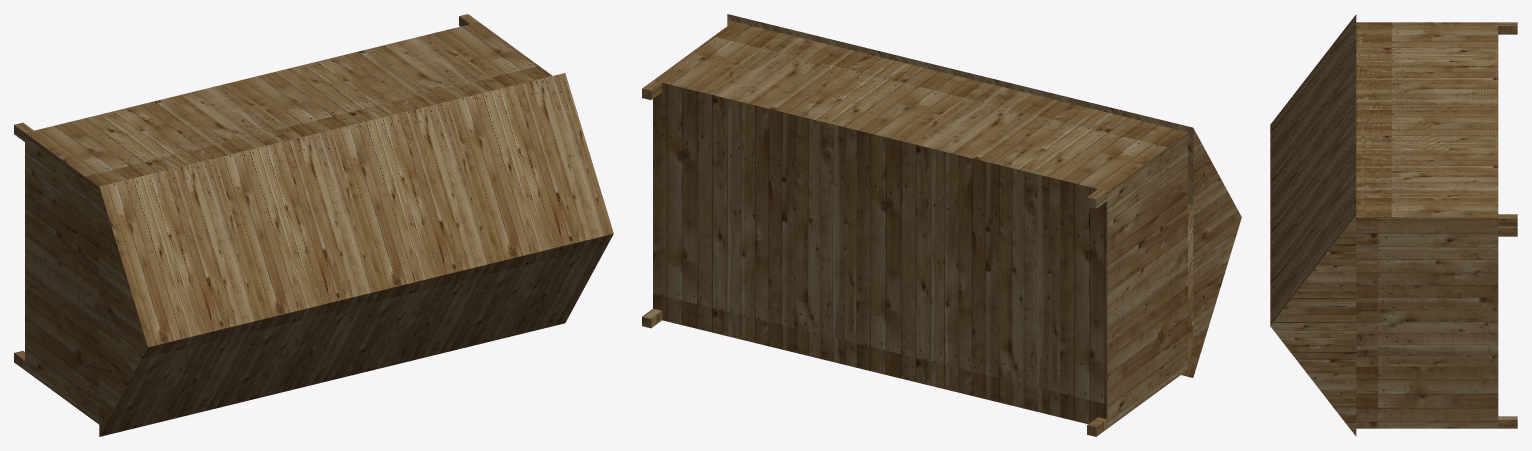
File: hut.fbx
The picture shows the model from 3 angles, left to right: view 1: azimuth 30°, elevation 25°; view 2: azimuth 150°, elevation 25°; view 3: azimuth 270°, elevation 25°; orthographic projection. The views are drawn at different scales.
Visible parts, largest first — view 1: Roof, Walls; view 2: Walls, Roof; view 3: Walls, Roof.
Boxes of the visible parts, <box> form: Roof: <box>99,73,613,436</box>; Walls: <box>14,14,552,424</box>; Walls: <box>642,21,1187,436</box>; Roof: <box>727,14,1241,377</box>; Walls: <box>1356,22,1517,428</box>; Roof: <box>1270,14,1356,436</box>.
Bounding box in the file's own units: 10.26 × 5.27 × 5.33.
